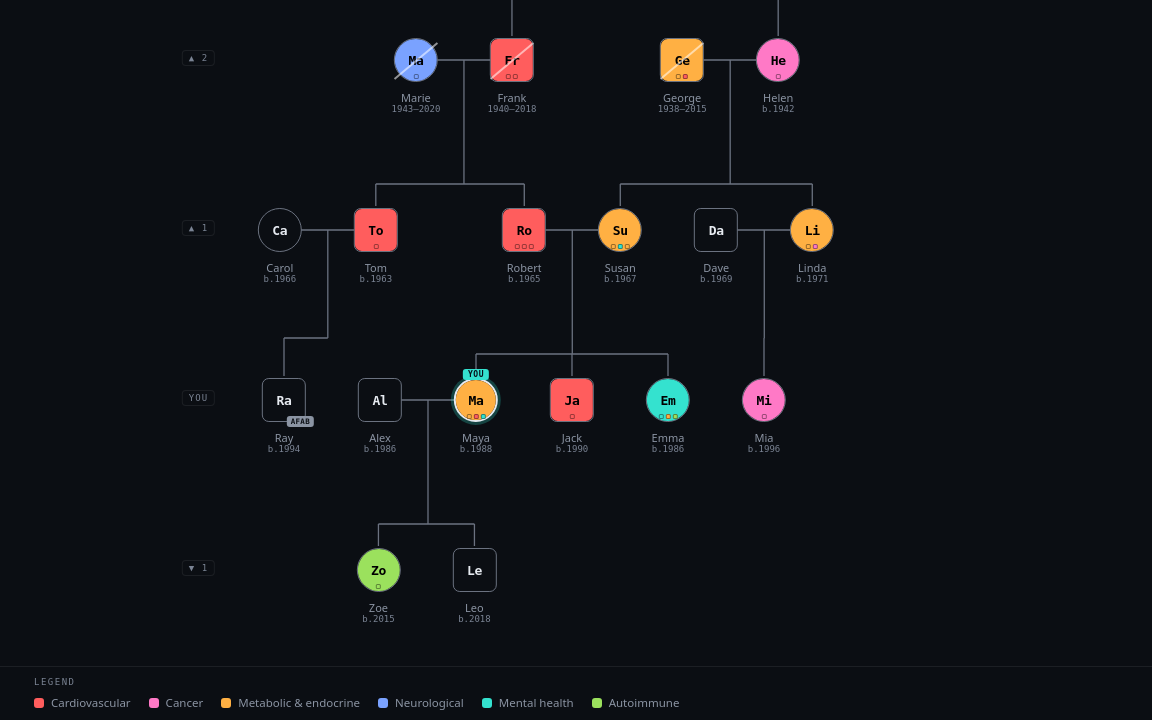
it: PedigreeView › states that screening keys off organs, not gender, in the drawer (guardrail #4)
This screenshot has width=1152, height=720.
(page scrolled)
Click the button with aria-label "Maya": (476, 400) 454,378 -> 498,422
(page scrolled)
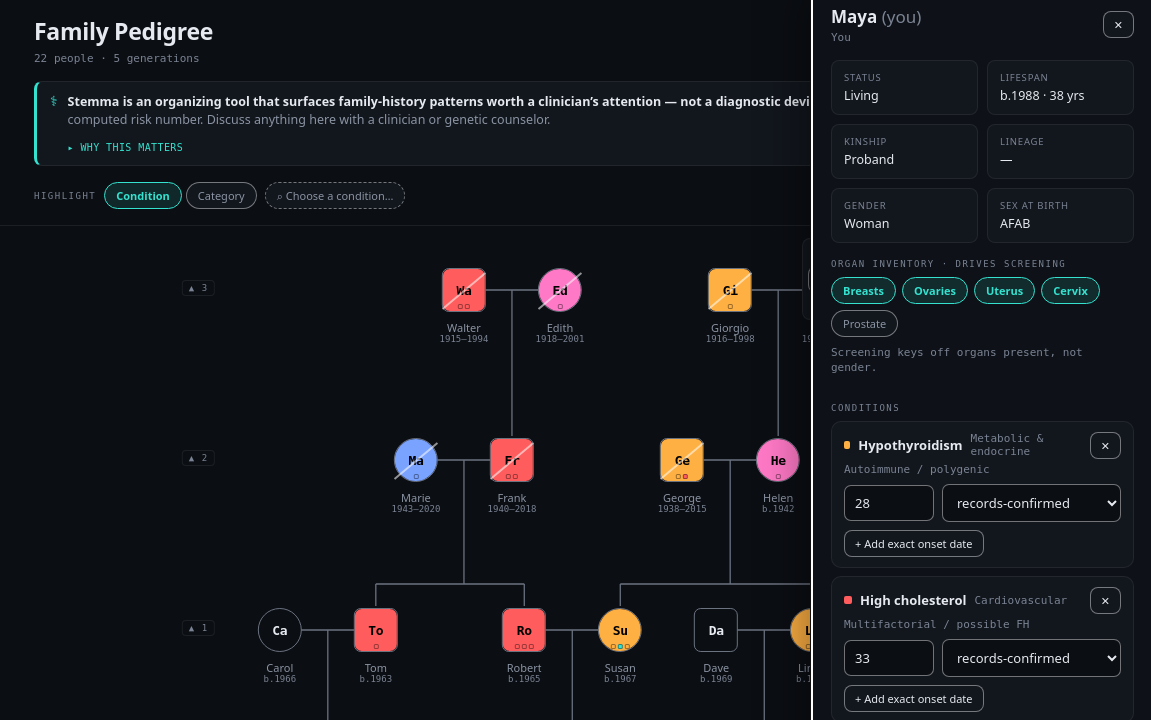
Now the text "Screening keys off organs present, not gender." is shown, box 831,346 -> 1083,374
